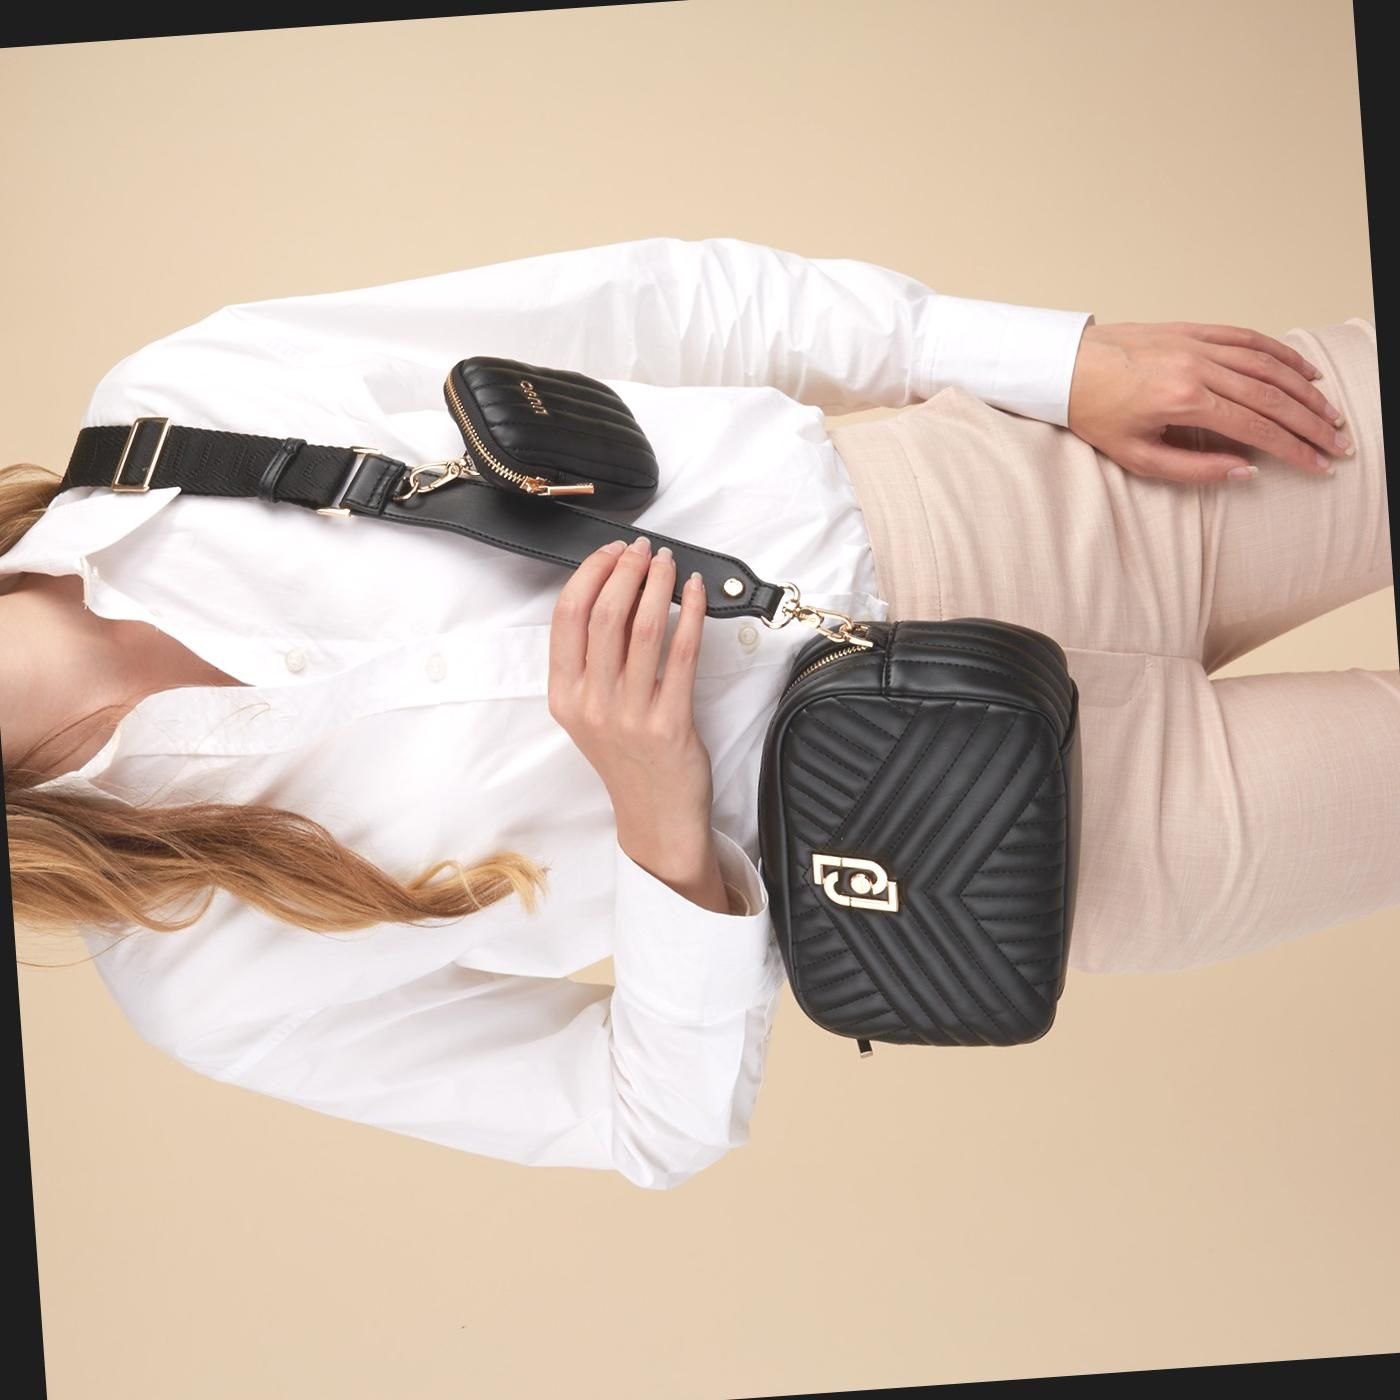LIU-JO: (812, 847, 899, 917)
